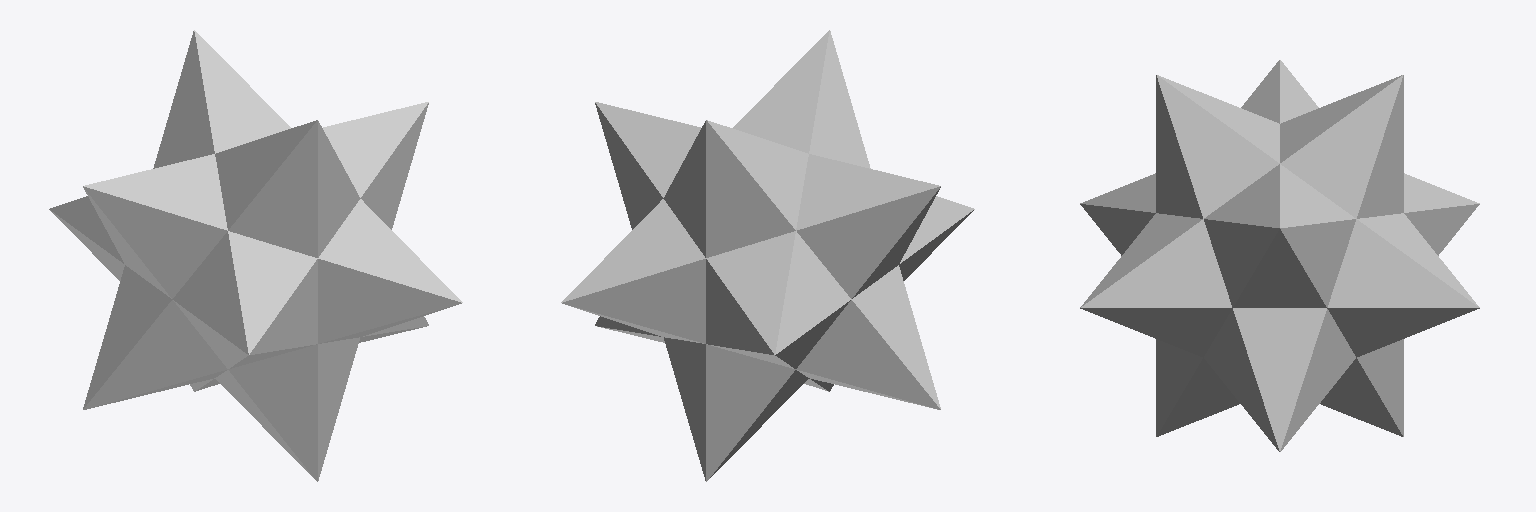
The model's file is star_low.obj.
3 renders of one model, left to right at view 1: azimuth 30°, elevation 25°; view 2: azimuth 150°, elevation 25°; view 3: azimuth 270°, elevation 25°, orthographic.
Visible parts, largest first — view 1: Small_stellated_dodecahedron; view 2: Small_stellated_dodecahedron; view 3: Small_stellated_dodecahedron.
Boxes of the visible parts, x1,y1,x2,y2 form: Small_stellated_dodecahedron: [49, 30, 462, 481]; Small_stellated_dodecahedron: [561, 30, 974, 481]; Small_stellated_dodecahedron: [1080, 60, 1479, 451].
Bounding box in the file's own units: 20 × 20 × 20.